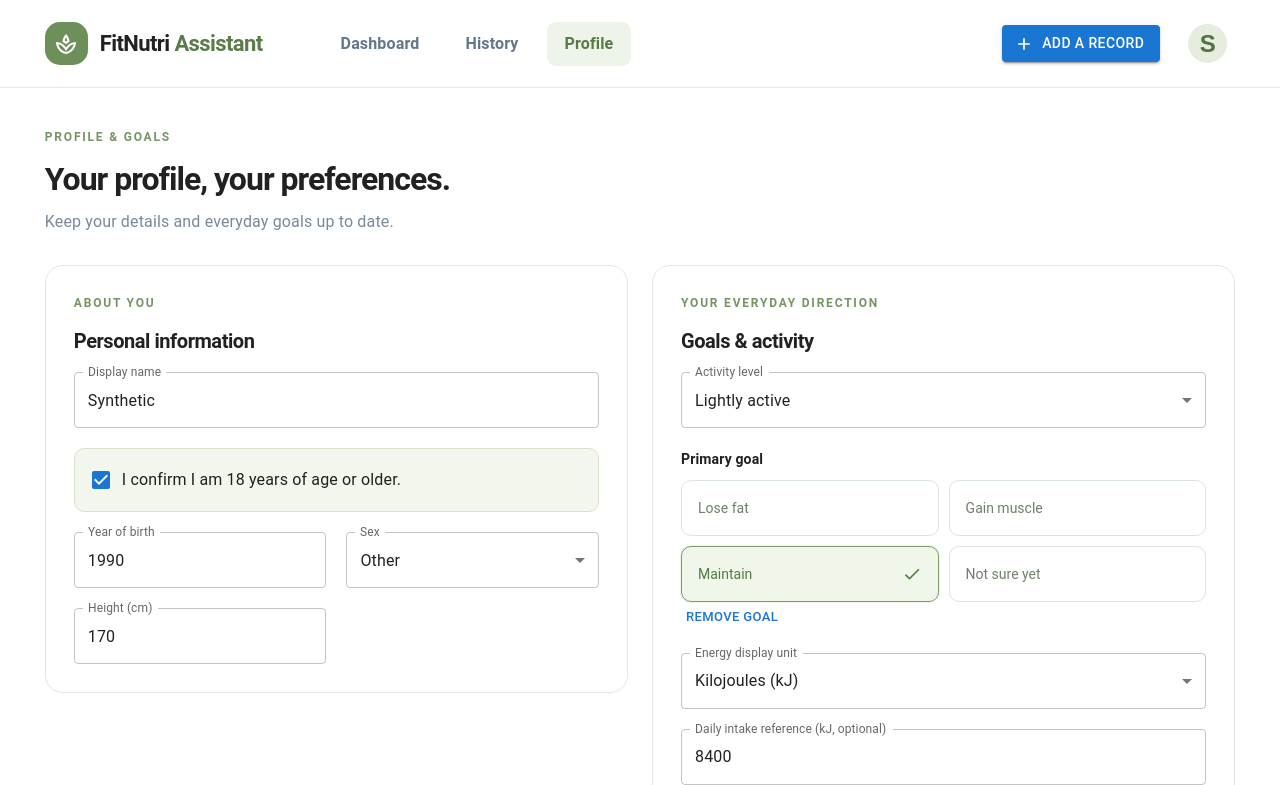
Test: F14 separate profile settings and dated weight actions › a weight refresh never replaces an unsaved settings baseline or typed name
Expected: the heading "Your profile, your preferences." is shown, [45,160,450,199]
Replace the text in the field labelled "Display name" with "Unsaved name": (336, 400) [74,372,599,428]
(page scrolled)
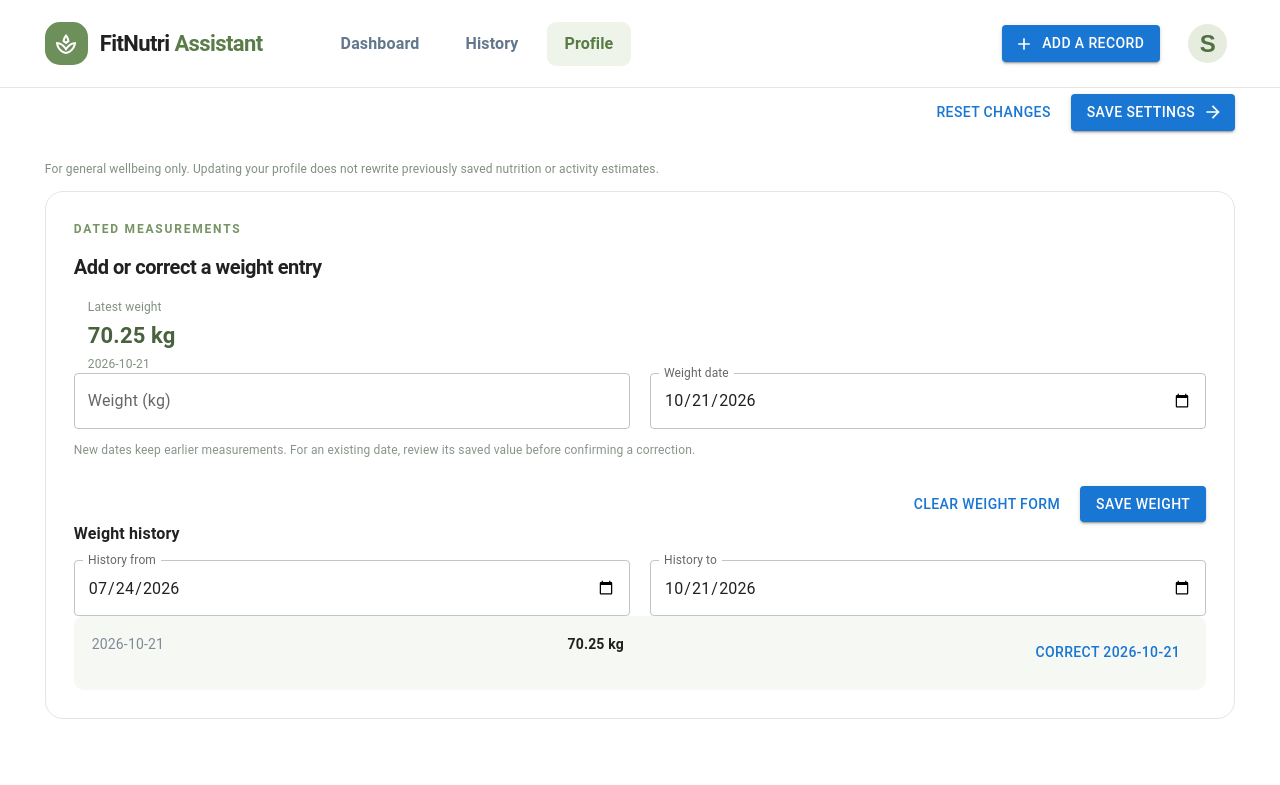
In the number field labelled "Weight (kg)": (352, 401) [74,373,630,429], type "71.25"
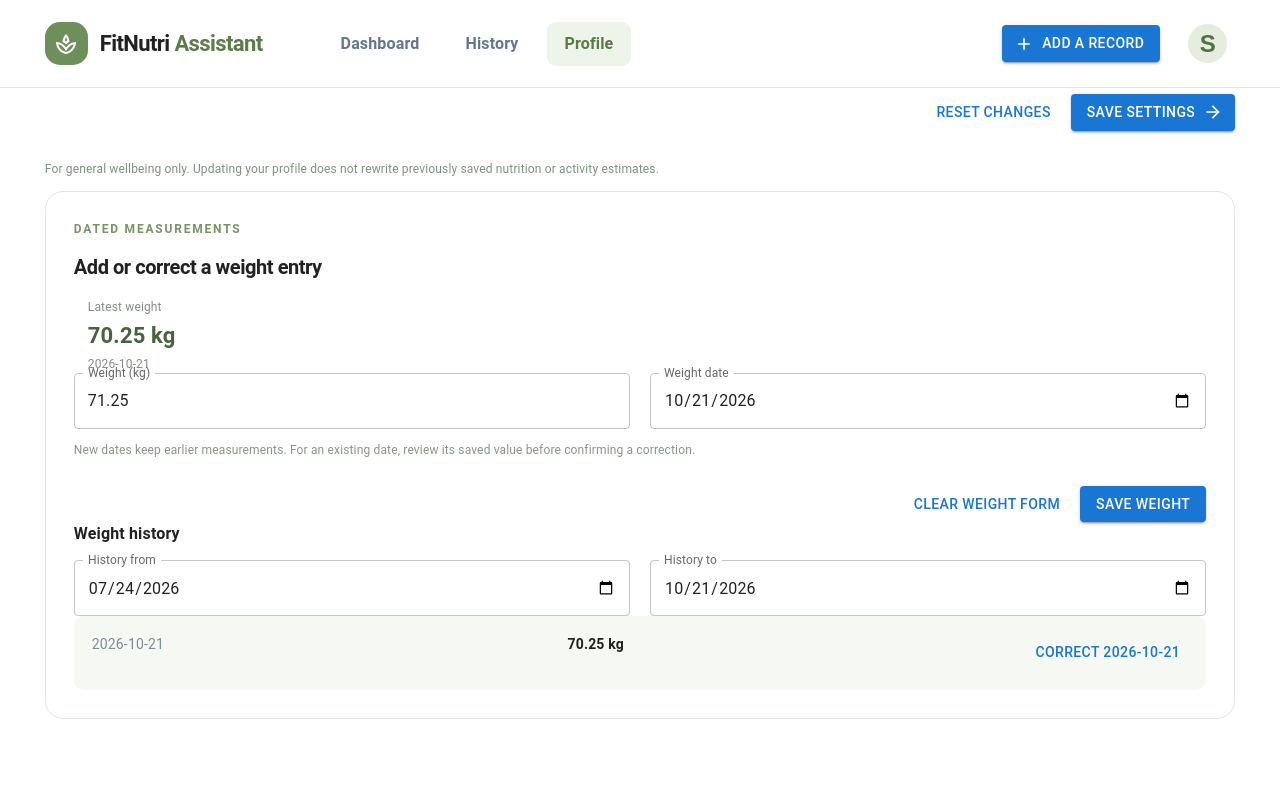
Click the button "Save weight": (1143, 504) [1080,486,1206,522]
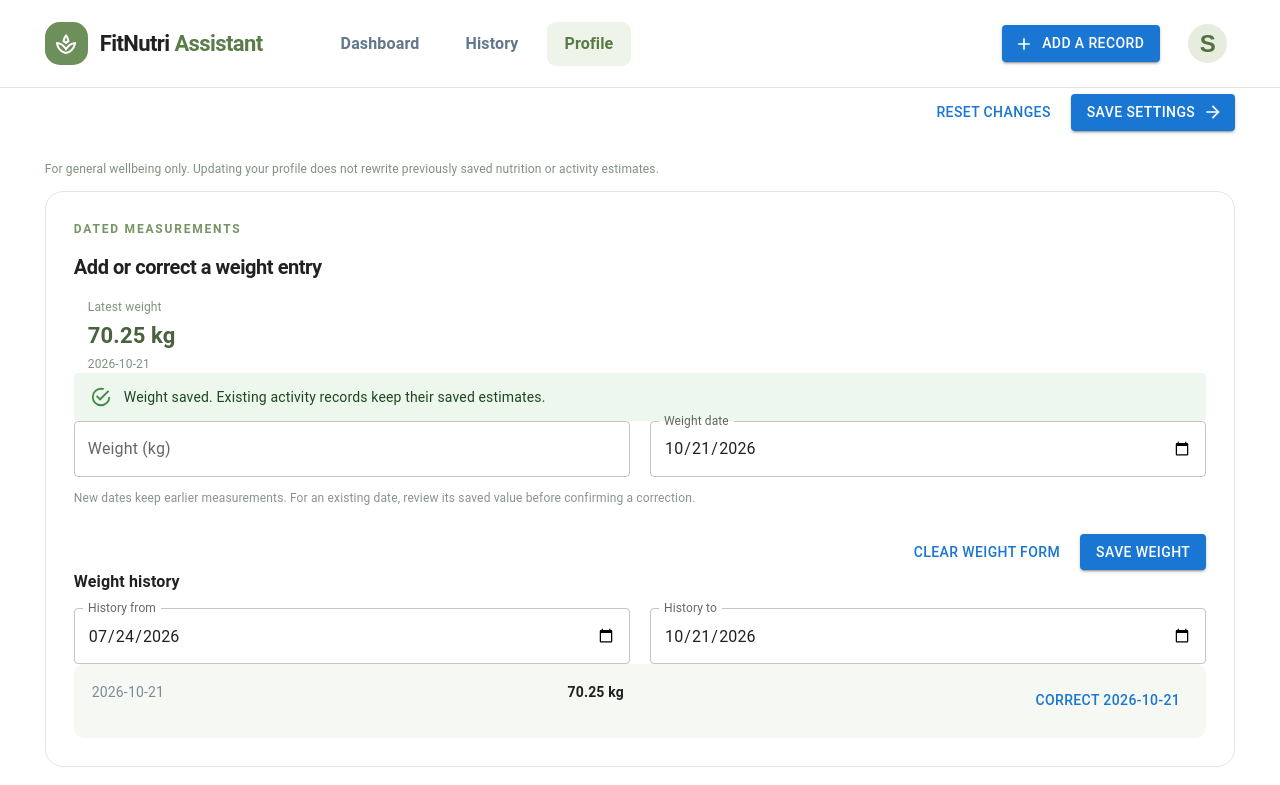
Expected: the text "Weight saved. Existing activity records keep their saved estimates." is shown, [124,389,546,405]
Click the button "Save settings": (1153, 112) [1071,94,1235,131]
(page scrolled)
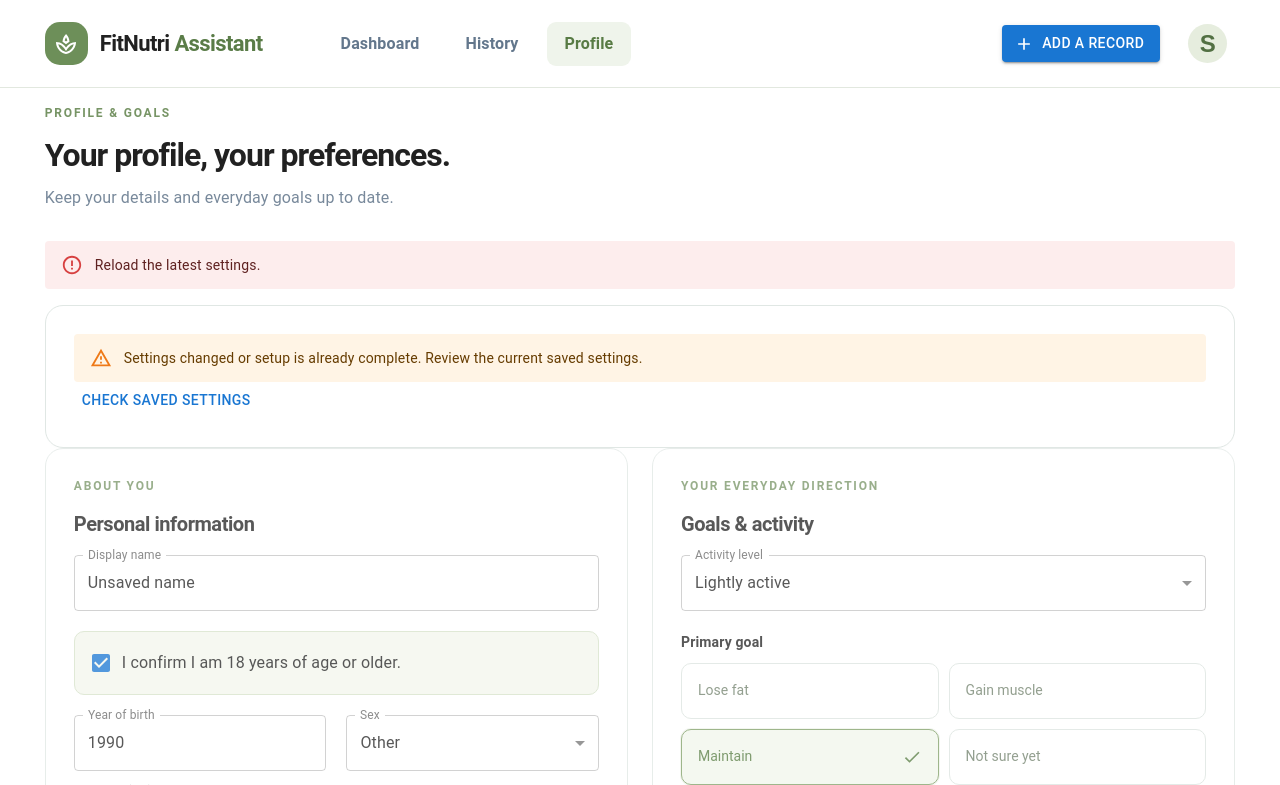
Expected: the button "Check saved settings" is shown
Click the button "Check saved settings": (166, 401) [74,382,259,419]
(page scrolled)
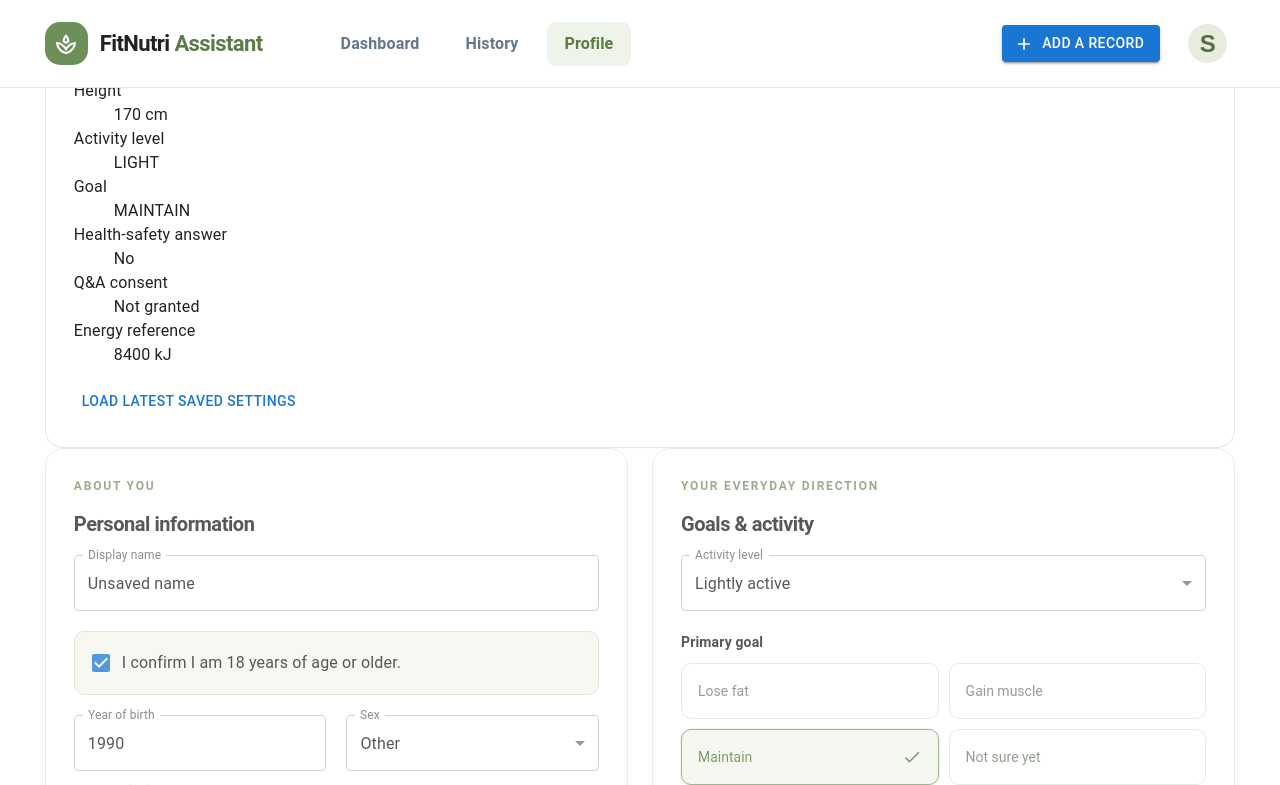
Expected: the button "Load latest saved settings" is shown
Click the button "Load latest saved settings": (189, 401) [74,383,304,419]
(page scrolled)
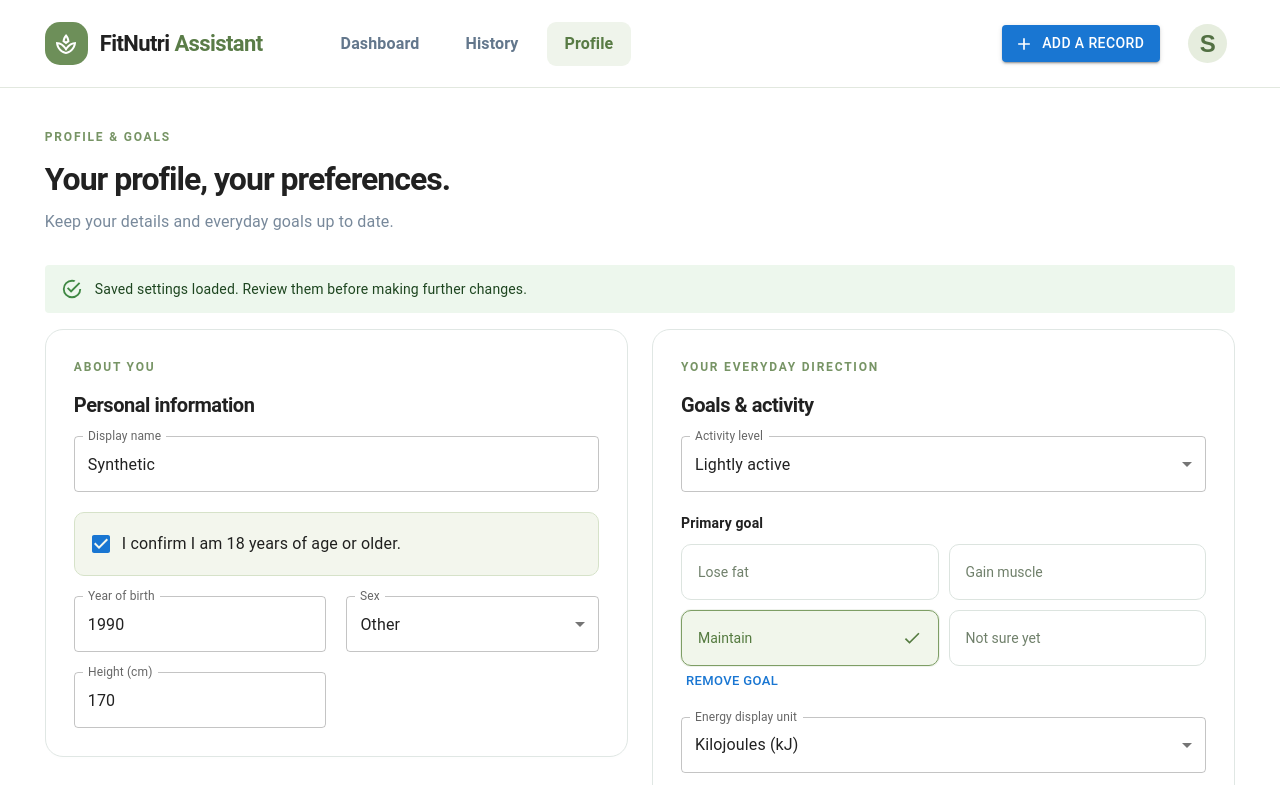
Expected: the field labelled "Display name" holds "Synthetic", [74,436,599,492]
